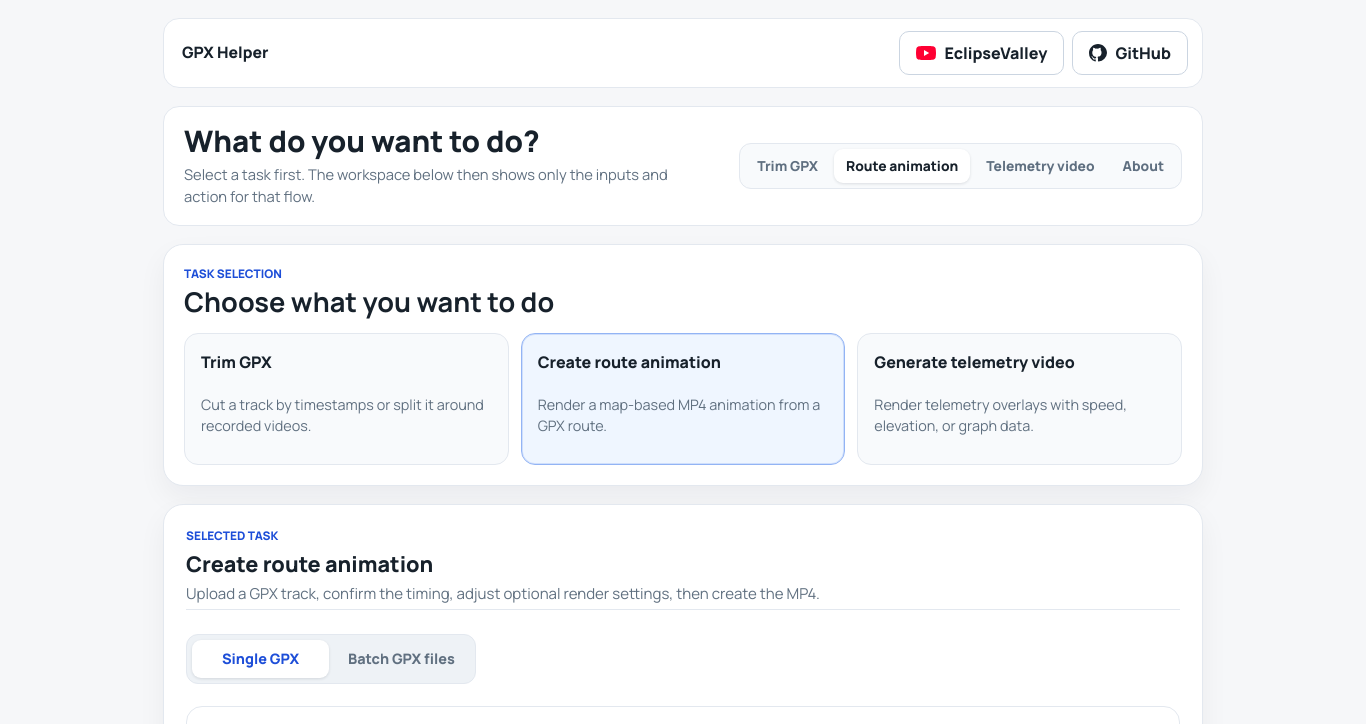
Test: App › shows batch route animation controls after selecting batch mode
What coordinates should you click on to do the following:
click the button "Batch GPX files"
I would click on:
 (402, 659)
Its box is [333,640,470,678].
(page scrolled)
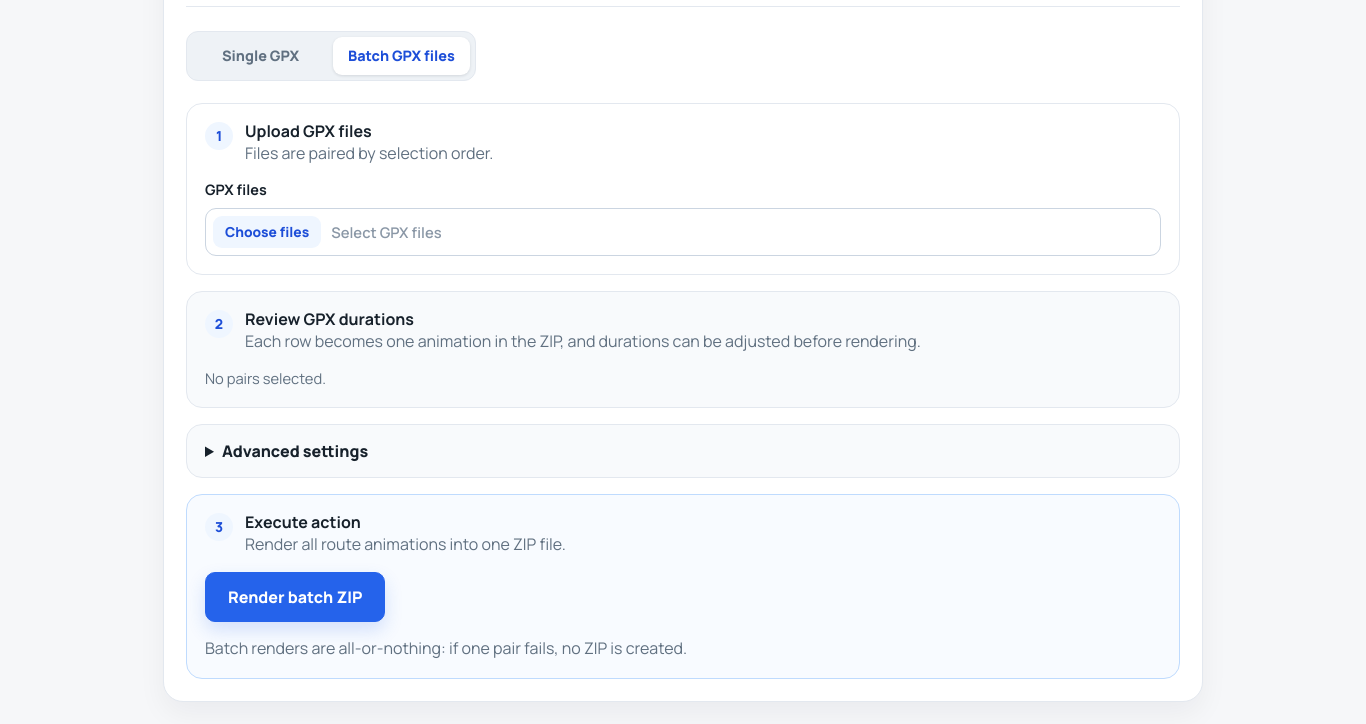
Check: the file field labelled "GPX files Choose files Select GPX files" is shown, box [205,179,1161,256]
Check: the button "Render batch ZIP" is shown, box [205,572,385,622]
Check: the text "Batch renders are all-or-nothing: if one pair fails, no ZIP is created." is shown, box [205,637,687,659]
